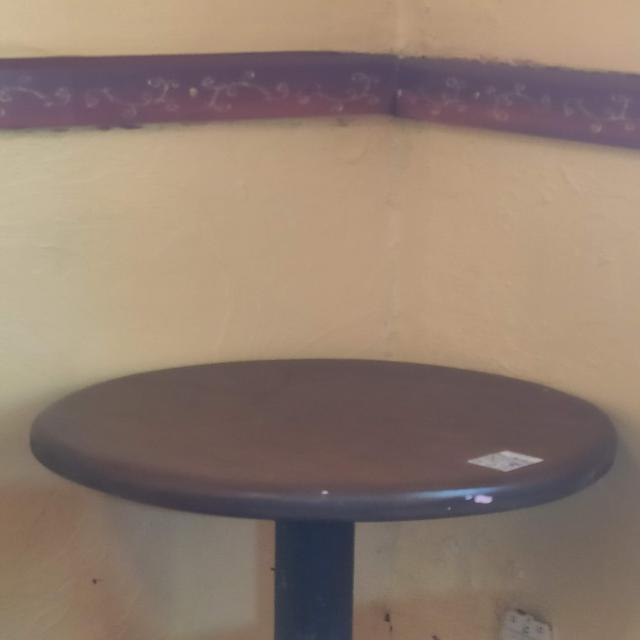qrcode: (471, 455, 532, 472)
